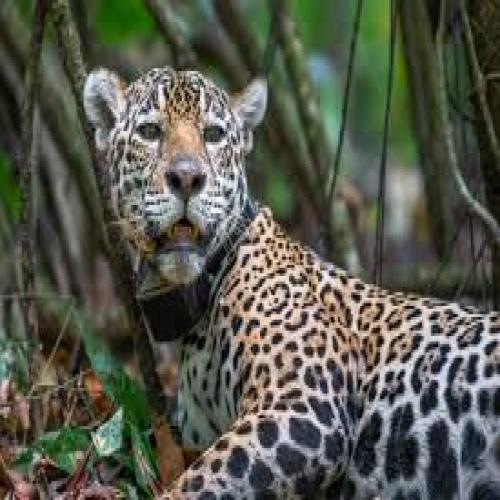jaguar_not-endangered: (81, 64, 500, 492)
